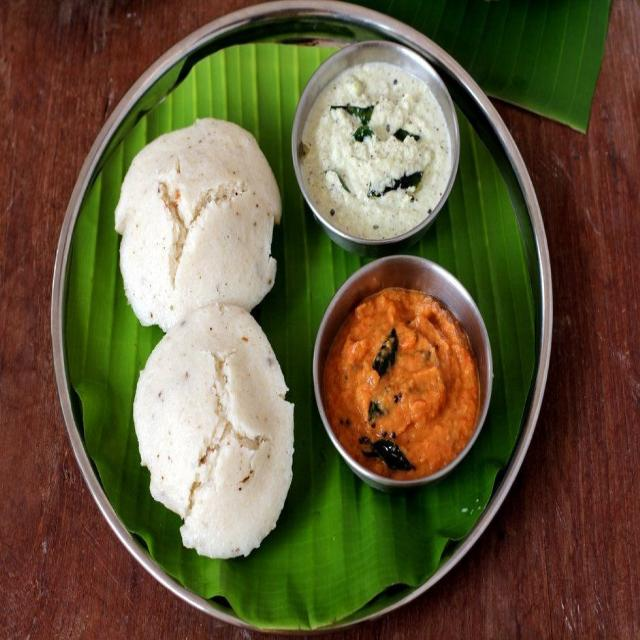chutney: (299, 59, 454, 237)
idly: (133, 305, 293, 557), (115, 118, 281, 331)
kaara chutney: (315, 273, 490, 489)
